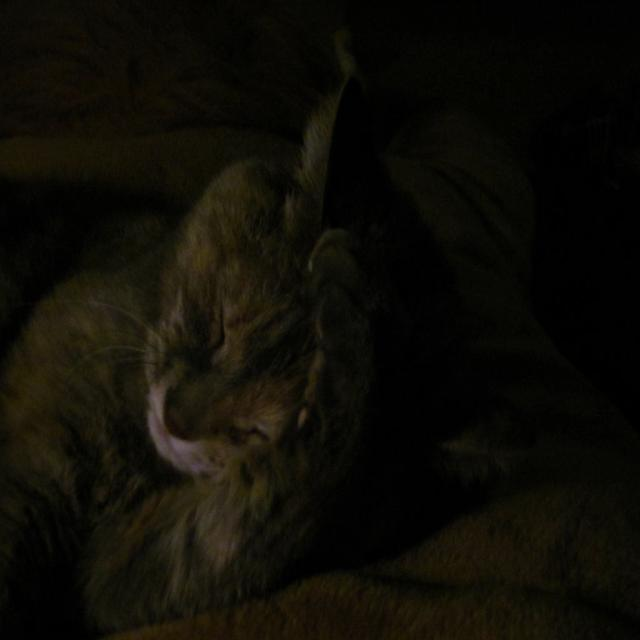Cat: (0, 64, 511, 636)
